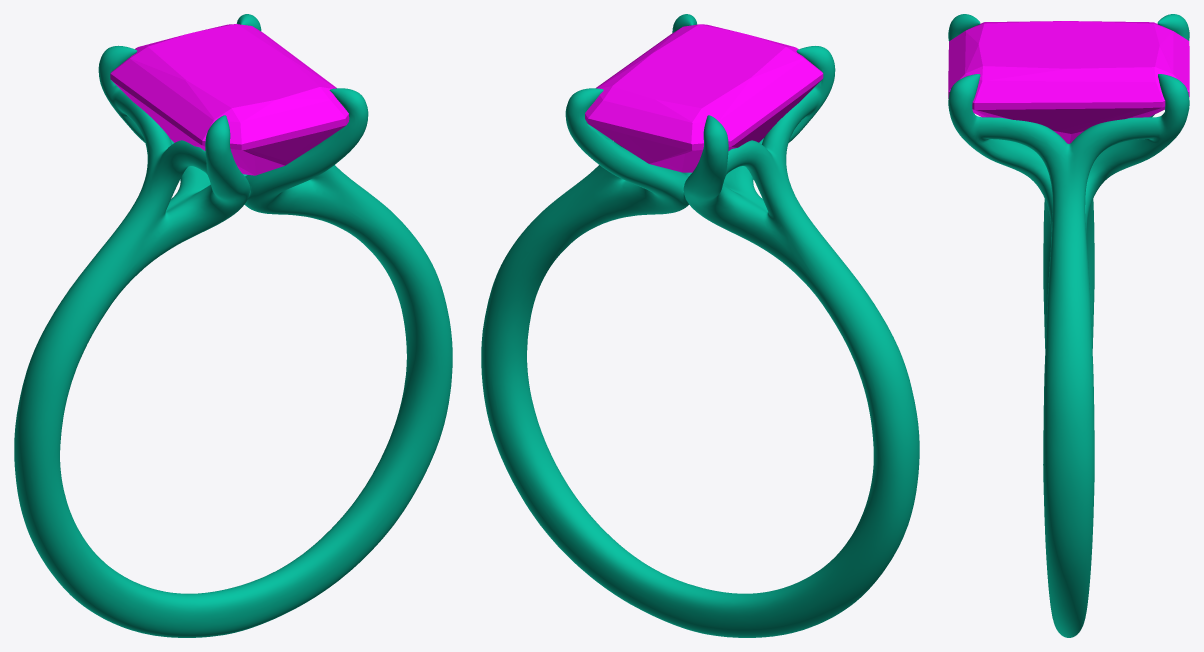
The model's file is BE1829_RA_200ct_RENDER.glb.
The picture shows the model from 3 angles, left to right: view 1: azimuth 30°, elevation 25°; view 2: azimuth 150°, elevation 25°; view 3: azimuth 270°, elevation 25°; orthographic projection.
Parts seen in each view (by area): view 1: Metal 01, CS_Diamond_Radiant; view 2: Metal 01, CS_Diamond_Radiant; view 3: Metal 01, CS_Diamond_Radiant.
Boxes of the visible parts, left/top/right/bottom form: Metal 01: left=14, top=14, right=452, bottom=637; CS_Diamond_Radiant: left=110, top=24, right=349, bottom=175; Metal 01: left=481, top=14, right=919, bottom=637; CS_Diamond_Radiant: left=585, top=24, right=823, bottom=172; Metal 01: left=948, top=14, right=1189, bottom=637; CS_Diamond_Radiant: left=948, top=21, right=1189, bottom=143.
Size of the model in its own units: 19.99 by 25.15 by 9.66.
